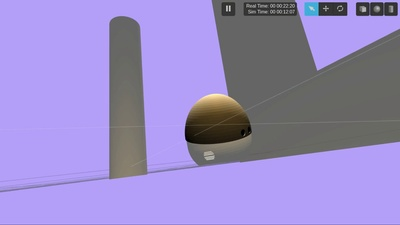mira_robot: (185, 93, 252, 168)
